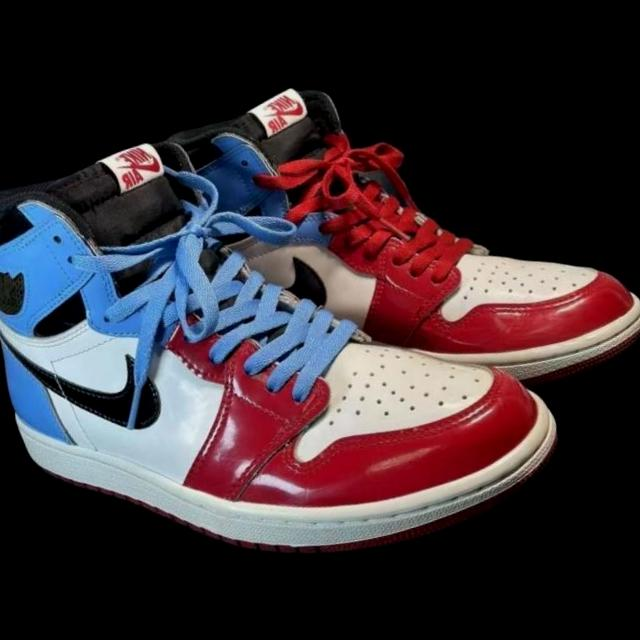nike_original_jordan: (0, 66, 578, 622), (151, 25, 640, 456)
